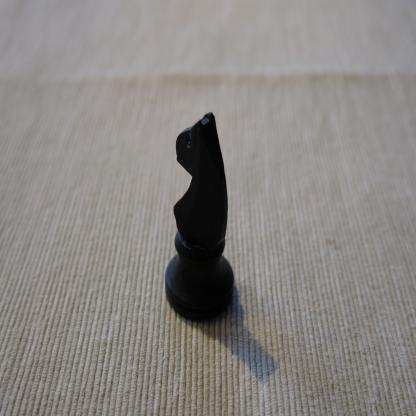black-knight: (164, 110, 235, 323)
